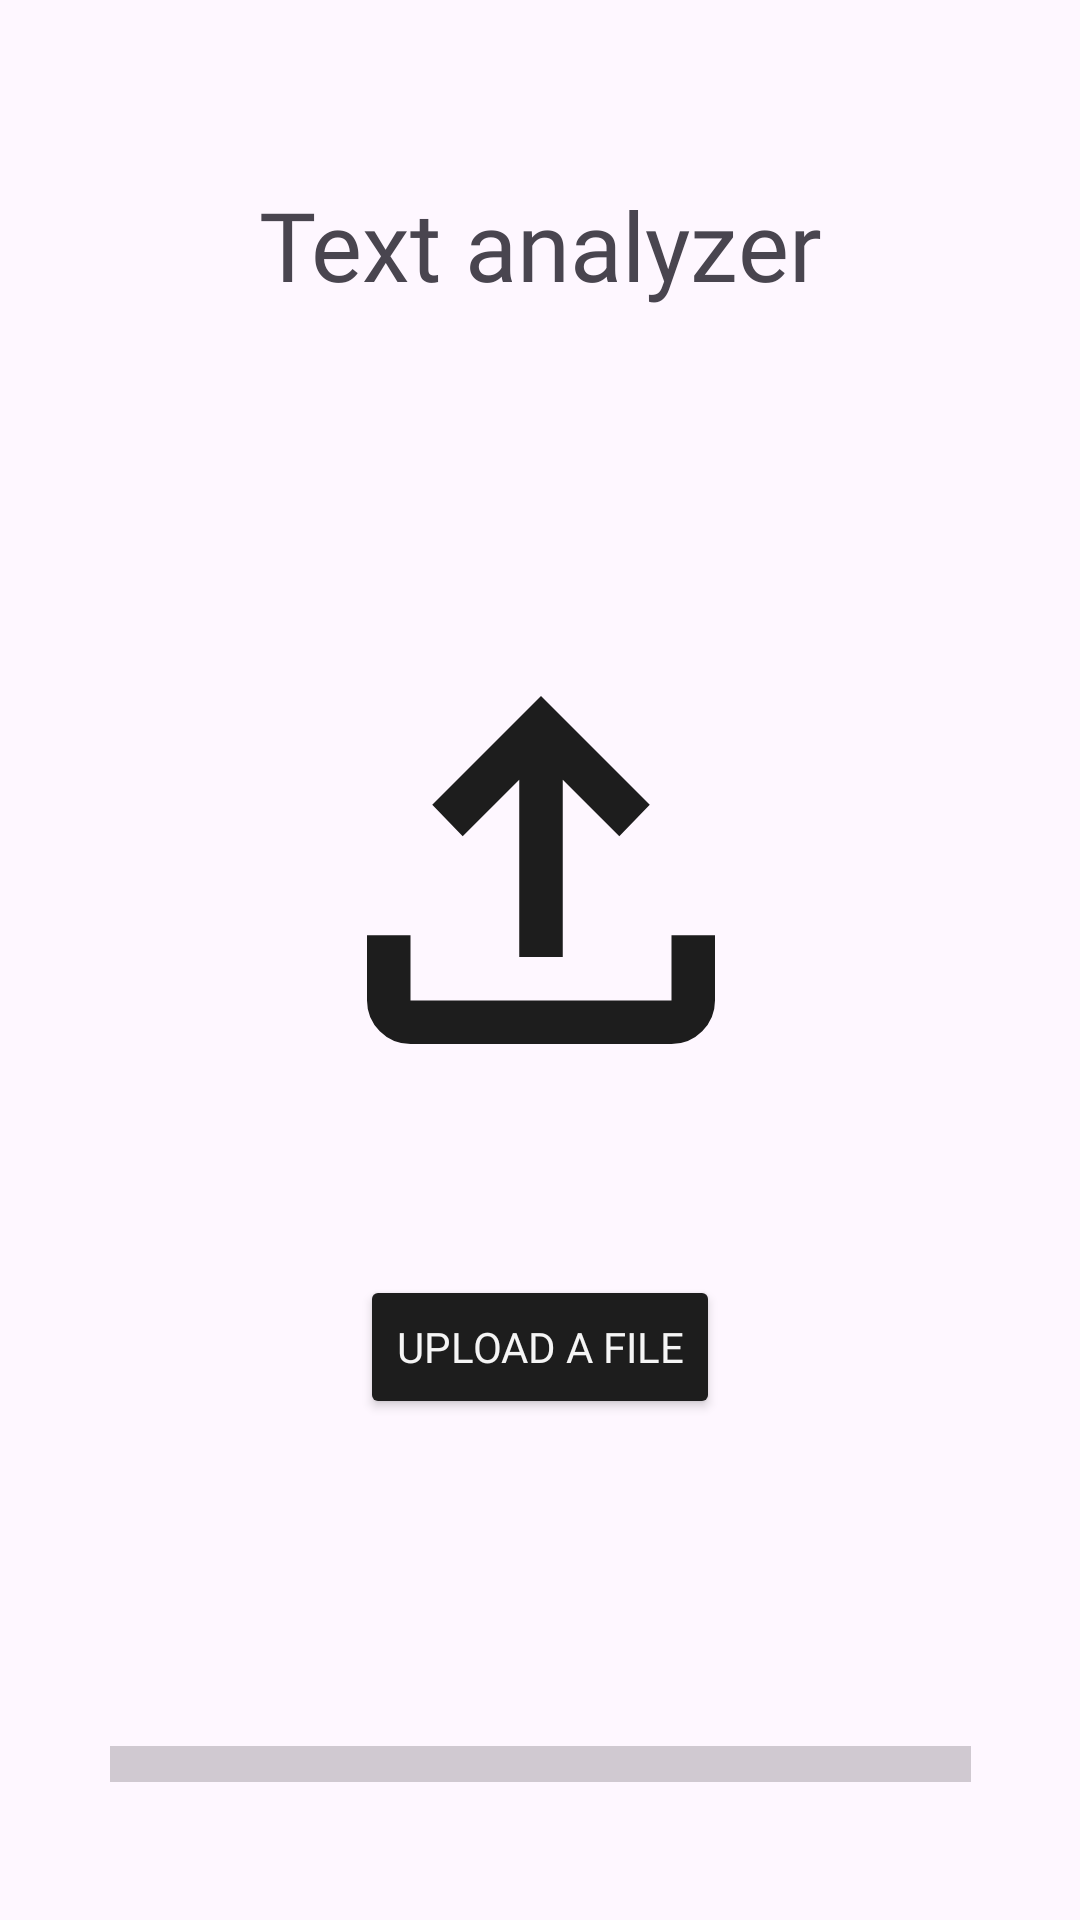

Where to tap for icons on this 1080 × 1920 app screen, as [x,y]:
uploadicon: [541,870]
